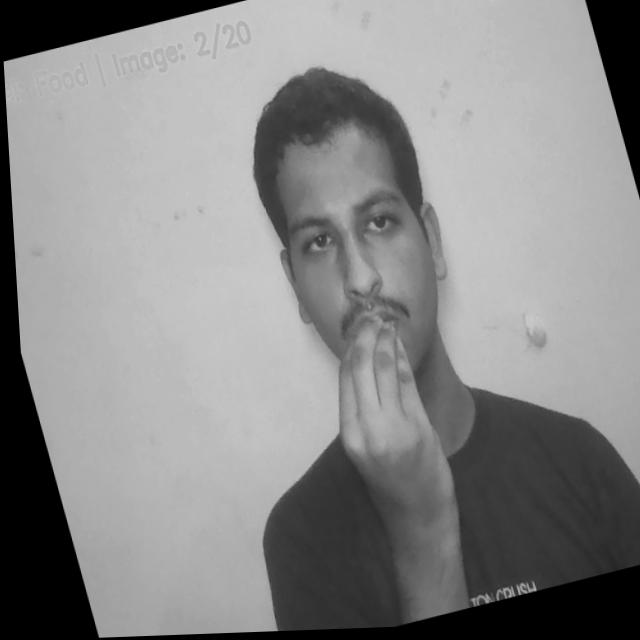Food: (304, 308, 464, 558)
